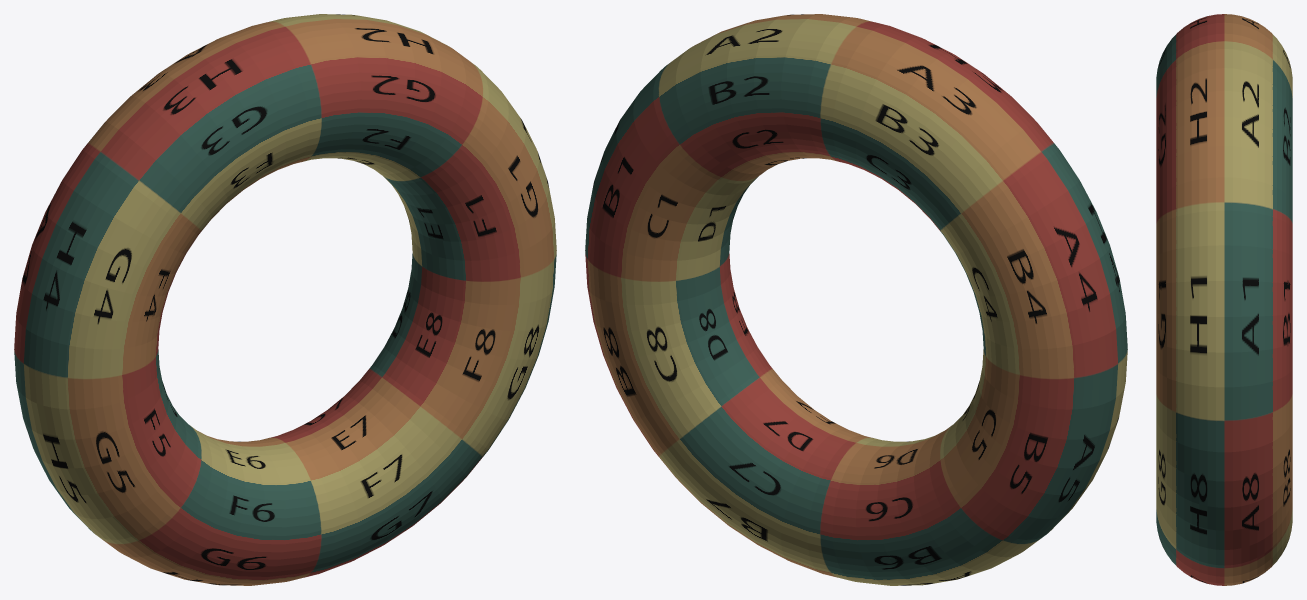
File: texture_torus_R29_r27.glb
3 renders of one model, left to right at view 1: azimuth 30°, elevation 25°; view 2: azimuth 150°, elevation 25°; view 3: azimuth 270°, elevation 25°, orthographic. The views are drawn at different scales.
Visible parts, largest first — view 1: world; view 2: world; view 3: world.
Part boxes in pixels (x1,y1,x2,y2): world: (14, 14, 556, 585); world: (585, 14, 1127, 585); world: (1156, 14, 1292, 585).
Size of the model in its own units: 38.53 by 38.46 by 9.18.
1 material, 1 textured.
